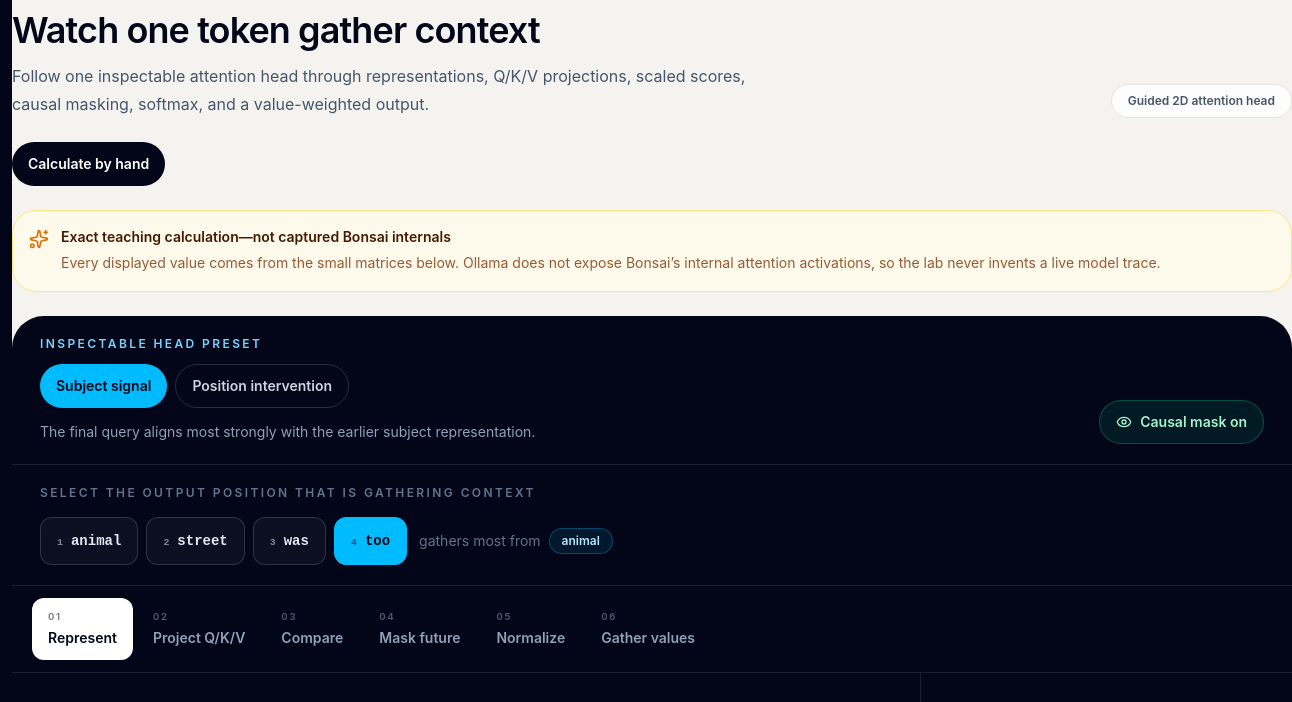
AttentionLabPage › walks through an exact guided attention calculation
The width and height of the screenshot is (1292, 702).
Expected: the message with test id "attention-provenance" shows "not captured Bonsai internals", [61,228,451,245]
Expected: the text with test id "attention-dominant-token" reads "animal", [562,533,600,548]
Click the button with test id "attention-stage-button-projections": click(199, 629) [137,598,261,660]
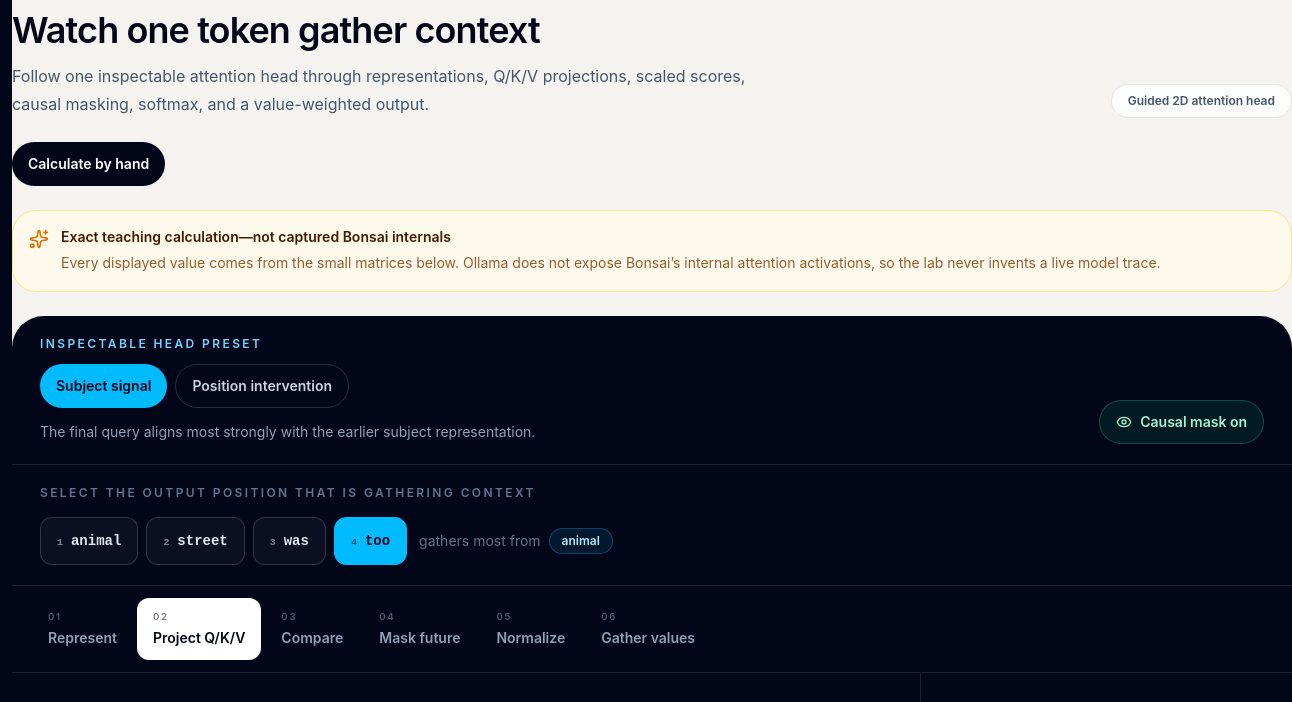
Click the button with test id "attention-stage-button-softmax": click(531, 629) [480,598,581,660]
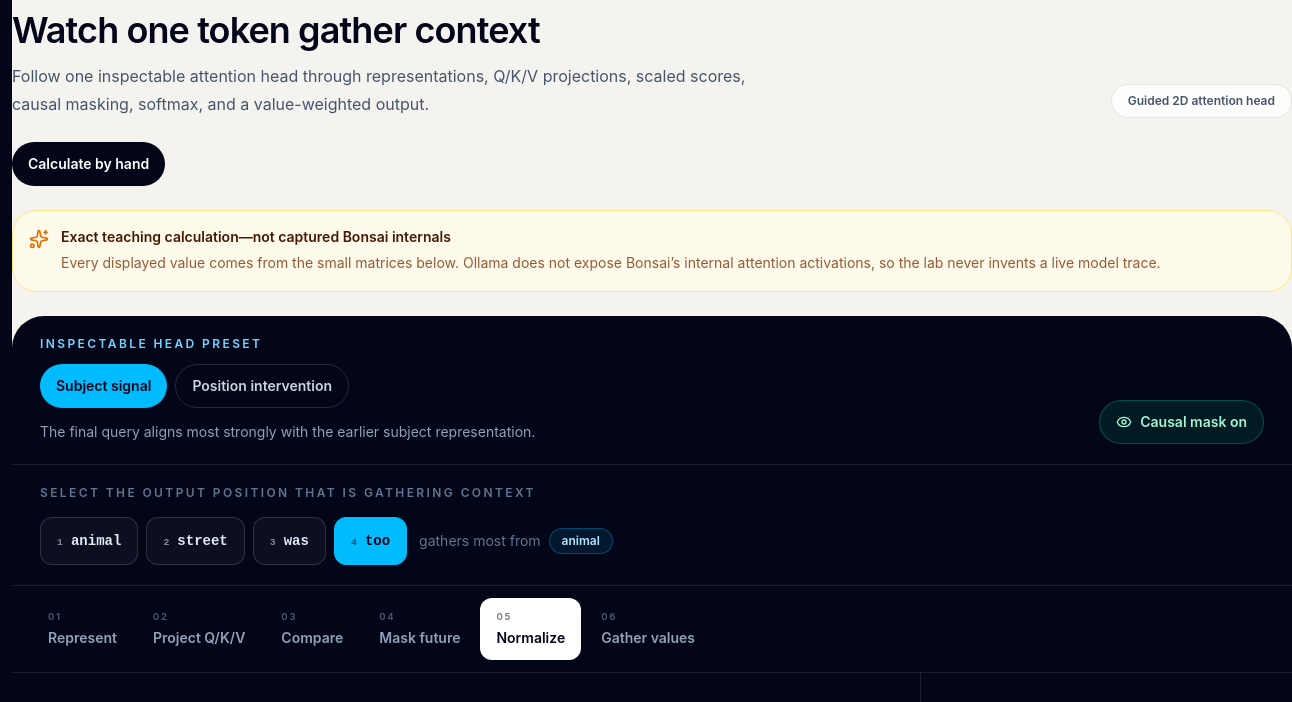
Click the button with test id "attention-stage-button-output": click(648, 629) [585,598,711,660]
(page scrolled)
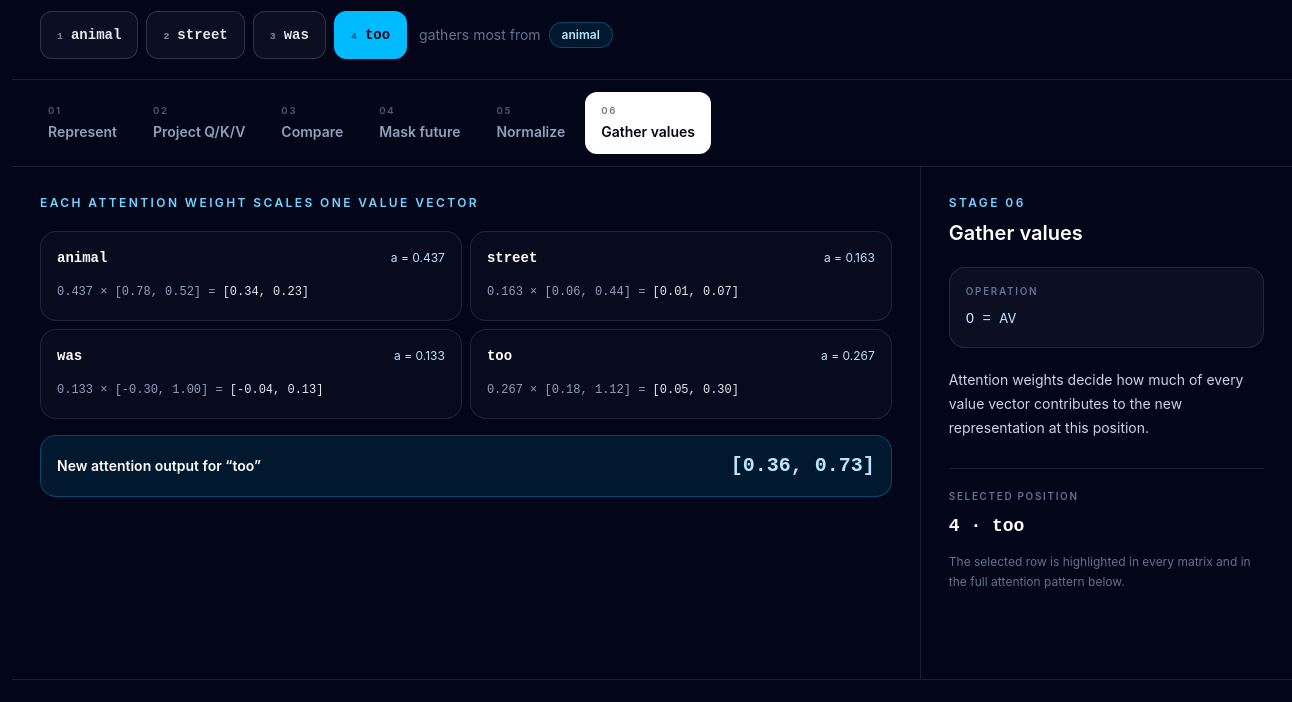
Expected: the element with test id "attention-stage-output" shows "New attention output for “too”", [40,195,892,497]
